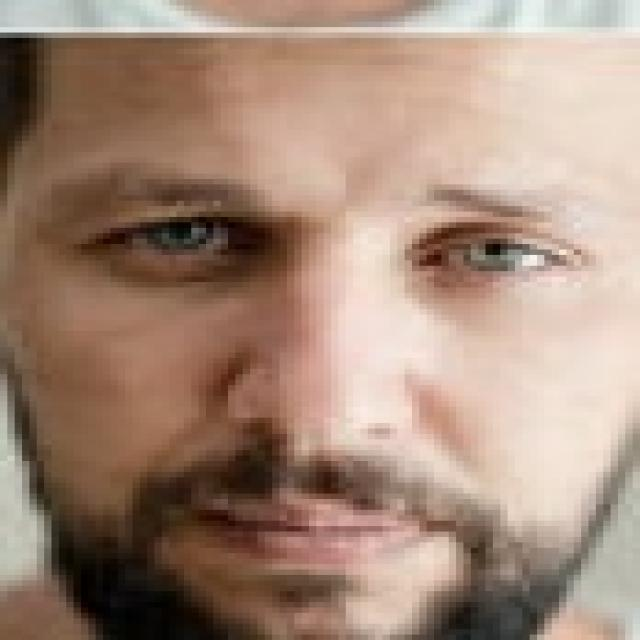Anxiety: (0, 41, 633, 635)
